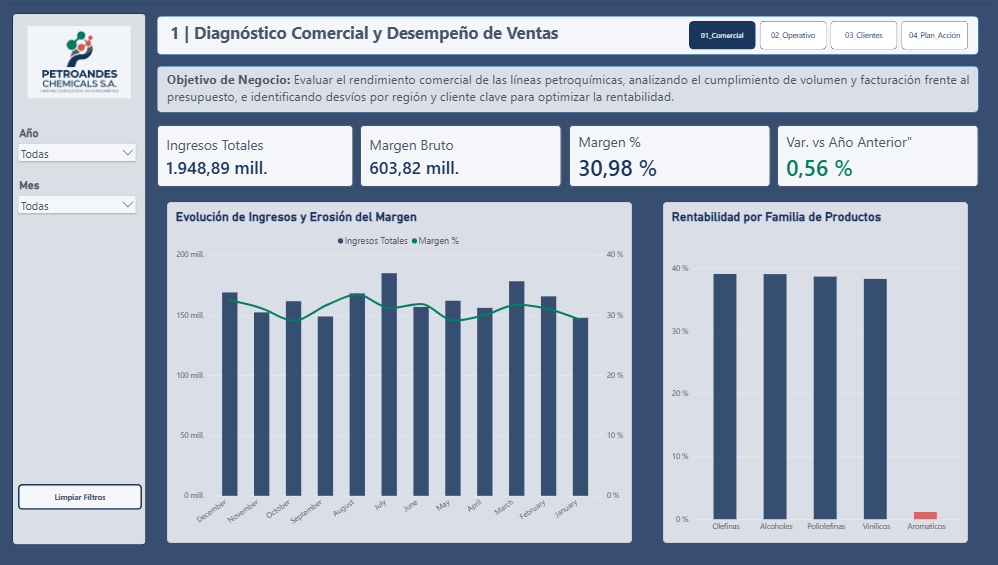

What the dashboard file says about the page in this screenshot:
{"tool":"powerbi","page":{"name":"01_Comercial","canvas":[1920,1080],"ordinal":1},"visuals":[{"type":"shape","box":[300,25,1590,75],"z":0},{"type":"shape","box":[300,121,1590,90],"z":0,"group":"g1"},{"type":"shape","title":"Filtros Globales","box":[20,20,260,1030],"z":1000},{"type":"textbox","box":[320,131,1560,65],"z":1000,"group":"g1"},{"type":"slicer","fields":{"Values":["Dim_Calendario.Año"]},"box":[25,240,240,80.8],"z":2000},{"type":"slicer","fields":{"Values":["Dim_Calendario.Nombre_Mes"]},"box":[25,340,240,80],"z":3000},{"type":"lineClusteredColumnComboChart","title":"Evolución de Ingresos y Erosión del Margen","fields":{"Category":["Dim_Calendario.Nombre_Mes"],"Y":["_Medidas.Ingresos Totales"],"Y2":["_Medidas.Margen %"]},"box":[319,386,900,660],"z":4000},{"type":"clusteredColumnChart","title":"Rentabilidad por Familia de Productos","fields":{"Category":["Dim_Productos.Familia"],"Y":["_Medidas.Margen %"]},"box":[1280,386,590,660],"z":5000},{"type":"image","box":[20,45,260,140],"z":6000},{"type":"actionButton","title":"Limpiar Filtros","box":[30,930,240,50],"z":7000},{"type":"cardVisual","fields":{"Data":["_Medidas.Ingresos Totales"]},"box":[300,236.1,380,120],"z":8000},{"type":"cardVisual","fields":{"Data":["_Medidas.Margen Bruto"]},"box":[693.3,236.1,390,120],"z":9000},{"type":"cardVisual","fields":{"Data":["_Medidas.Margen %"]},"box":[1096.7,236.1,390,120],"z":10000},{"type":"cardVisual","fields":{"Data":["_Medidas.Variación Margen YoY %"]},"box":[1500,236.1,390,120],"z":11000},{"type":"group","id":"g1","title":"Grupo 1","box":[300,121,1588.9,91.7],"z":12000},{"type":"textbox","box":[325,35,1510,75],"z":13000},{"type":"pageNavigator","box":[1330,35,540,55],"z":14000}]}

Visuals, with their boxes in screenshot pixels (x1, y1, x2, y2), scaled from the page's 1920x1080 canvas onto the 998x565 screenshot:
shape: [156, 13, 982, 52]
shape: [156, 63, 982, 110]
"Filtros Globales" shape: [10, 10, 146, 549]
textbox: [166, 69, 977, 103]
slicer - Dim_Calendario.Año: [13, 126, 138, 168]
slicer - Dim_Calendario.Nombre_Mes: [13, 178, 138, 220]
"Evolución de Ingresos y Erosión del Margen" lineClusteredColumnComboChart: [166, 202, 634, 547]
"Rentabilidad por Familia de Productos" clusteredColumnChart: [665, 202, 972, 547]
image: [10, 24, 146, 97]
"Limpiar Filtros" actionButton: [16, 487, 140, 513]
cardVisual - _Medidas.Ingresos Totales: [156, 124, 353, 186]
cardVisual - _Medidas.Margen Bruto: [360, 124, 563, 186]
cardVisual - _Medidas.Margen %: [570, 124, 773, 186]
cardVisual - _Medidas.Variación Margen YoY %: [780, 124, 982, 186]
"Grupo 1" group: [156, 63, 982, 111]
textbox: [169, 18, 954, 58]
pageNavigator: [691, 18, 972, 47]
